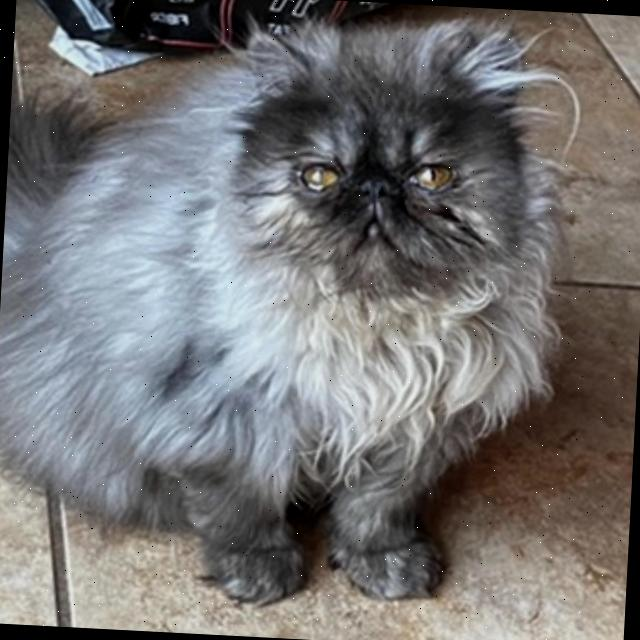persian_cat: (178, 0, 585, 372)
